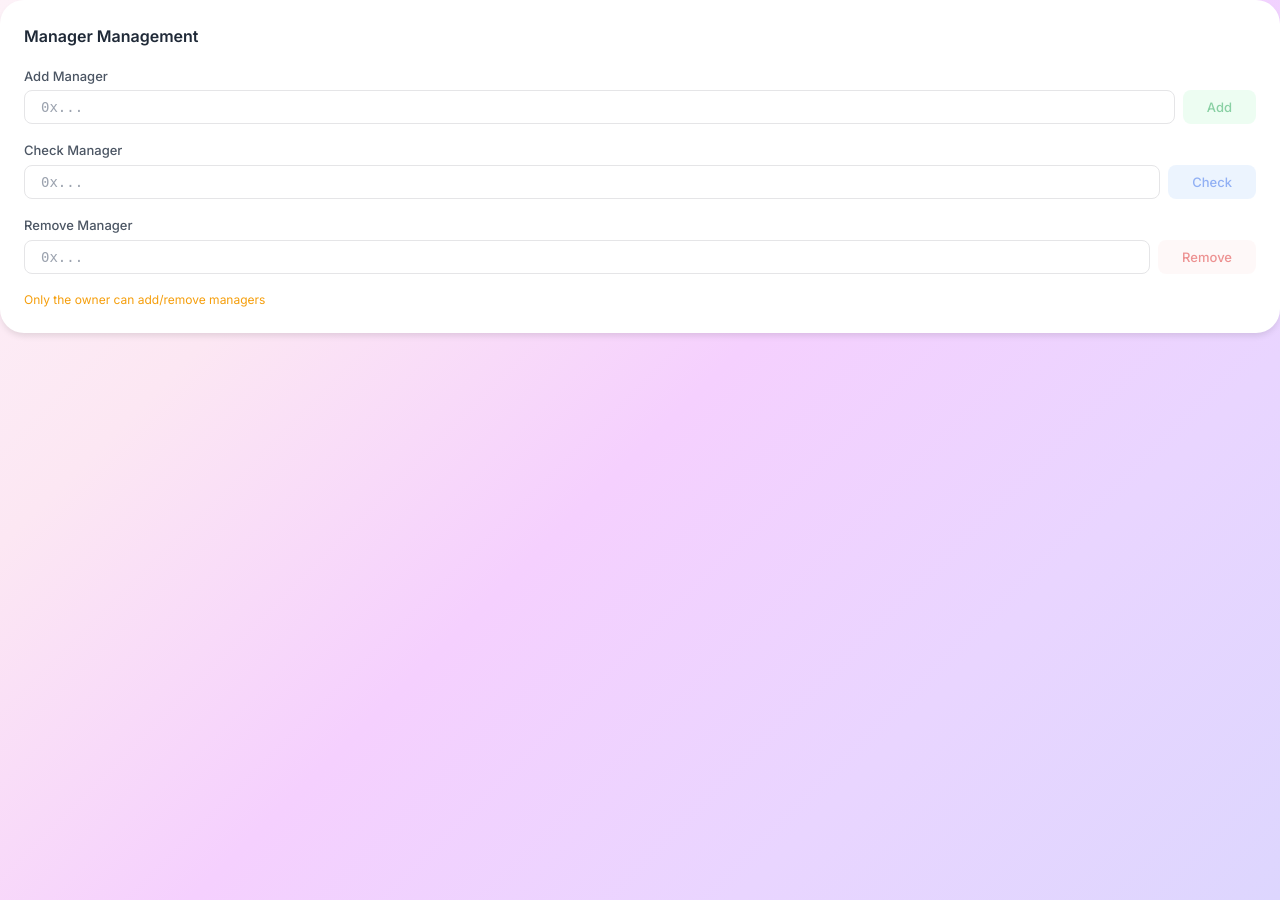
ManagerManagement › Multiple Operations › can perform check without owner privileges
In the field with placeholder "0x..." below "Check Manager": (592, 182) [24,165,1160,199], type "0x1234567890123456789012345678901234567890"
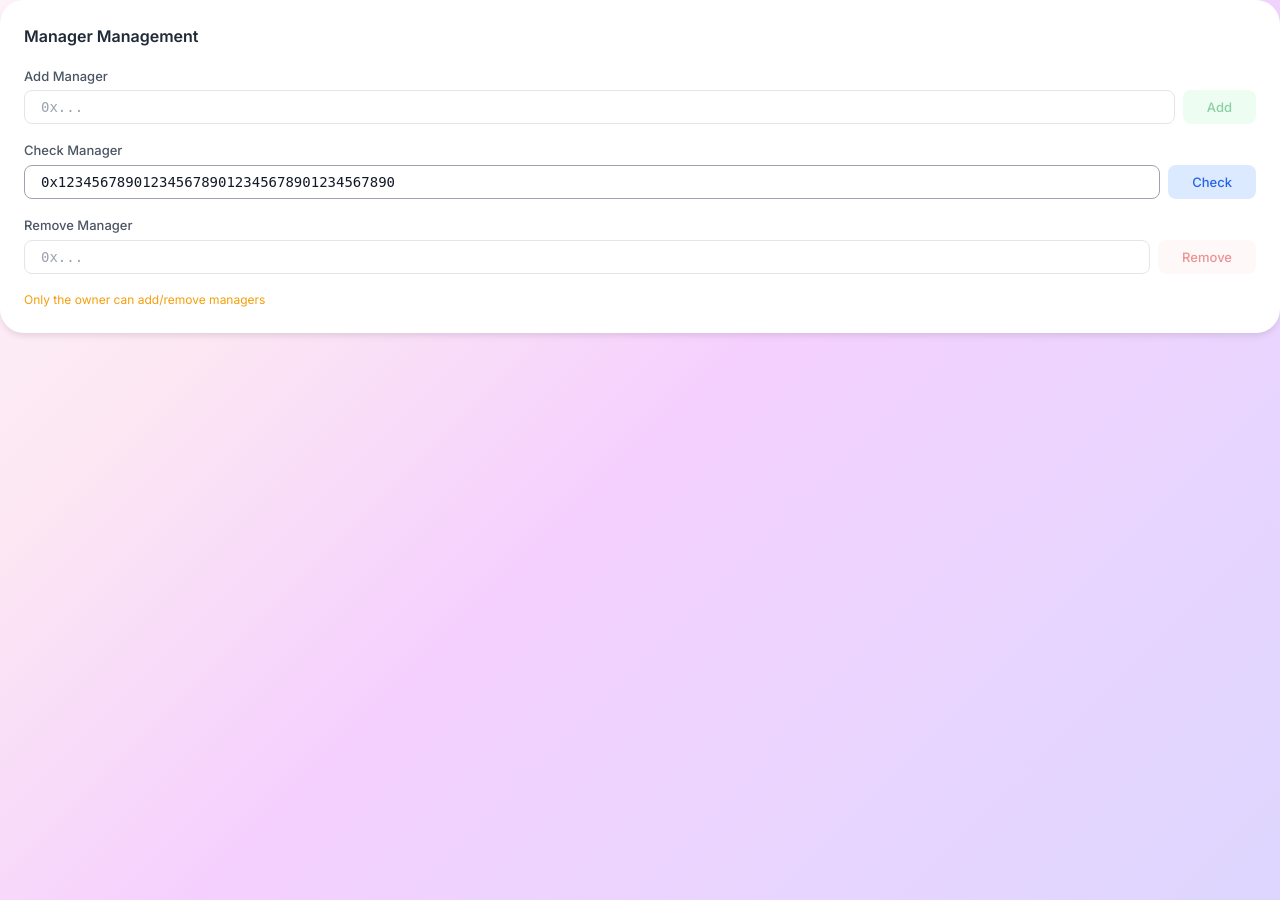
Check: the button "Check" is enabled
Click the button "Check": (1212, 182) [1168,165,1256,199]
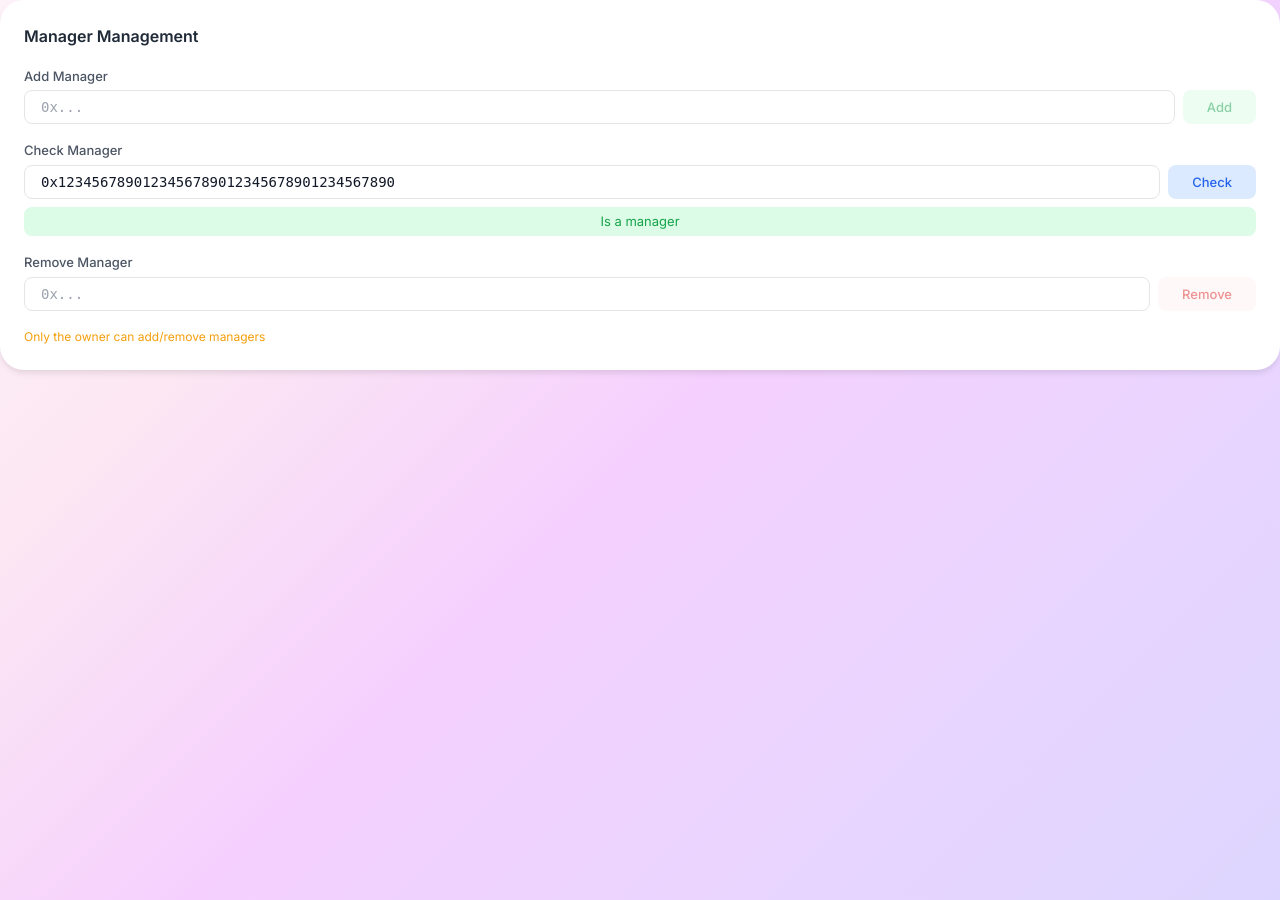
Check: the text "Is a manager" is shown, box [24,207,1256,236]
